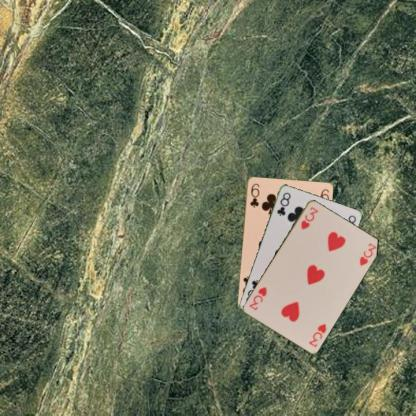3h: (306, 320, 328, 348), (298, 204, 319, 230)
6c: (247, 181, 261, 208)
8c: (274, 190, 292, 217)
